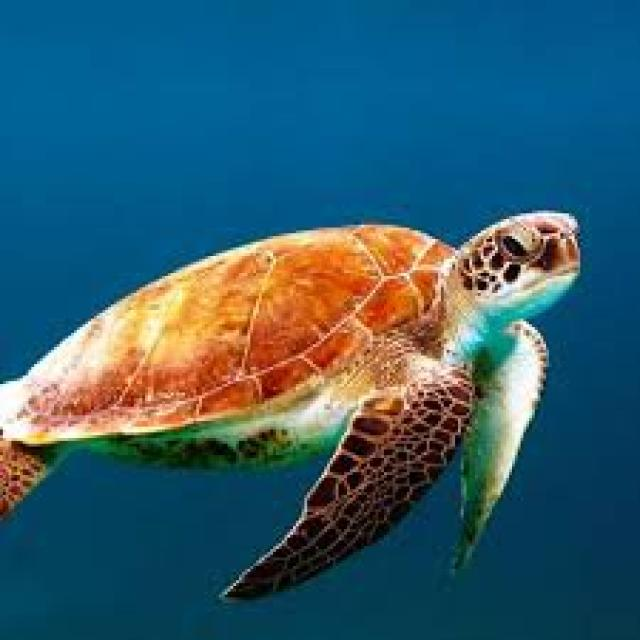turtle: (14, 206, 577, 612)
